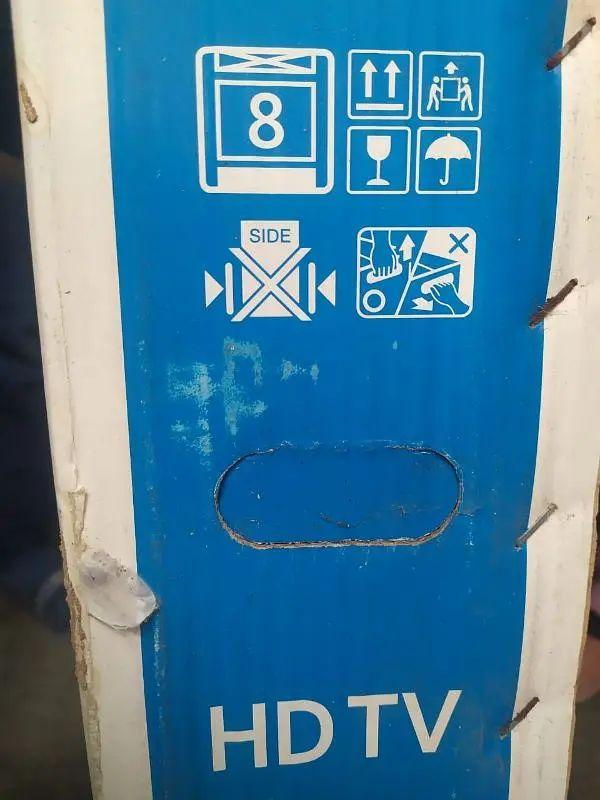paper: (3, 0, 600, 799)
